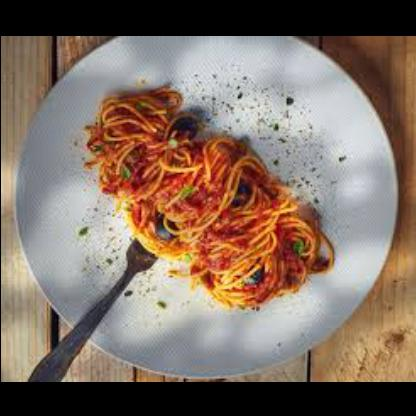spaghetti: (81, 85, 333, 311)
